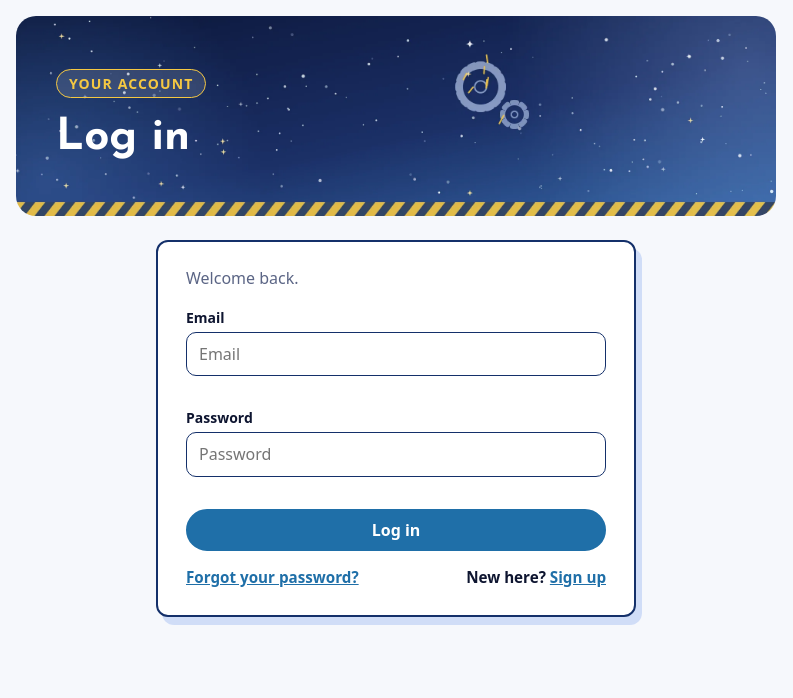
Scenario: log in › shows too many tries as a plain failure on our side, with nothing for the person to fix
The width and height of the screenshot is (793, 698).
Type "gill@example.com" into the field labelled "Email" at (396,354), box left=186, top=332, right=606, bottom=376
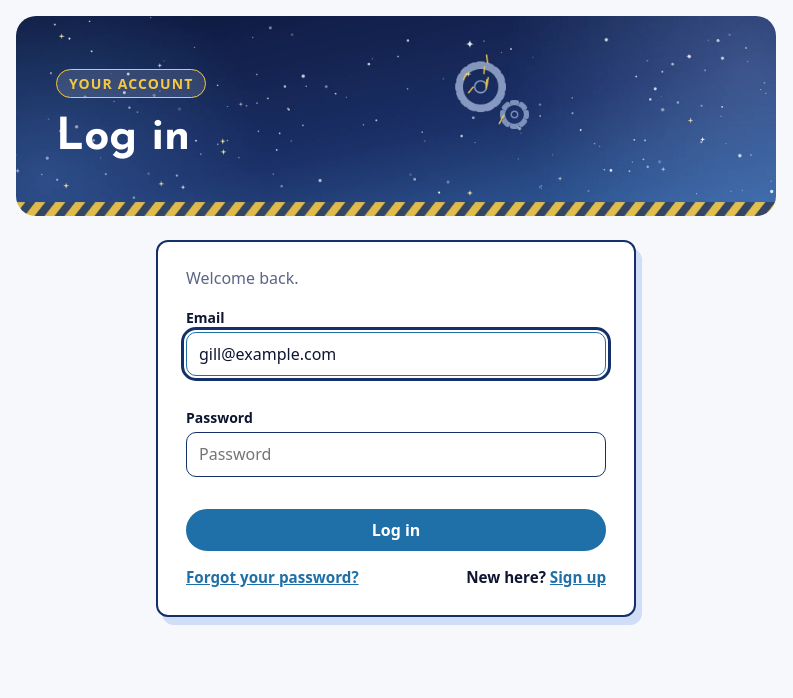
Type "secret123" into the password field labelled "Password" at (396,454), box left=186, top=432, right=606, bottom=477
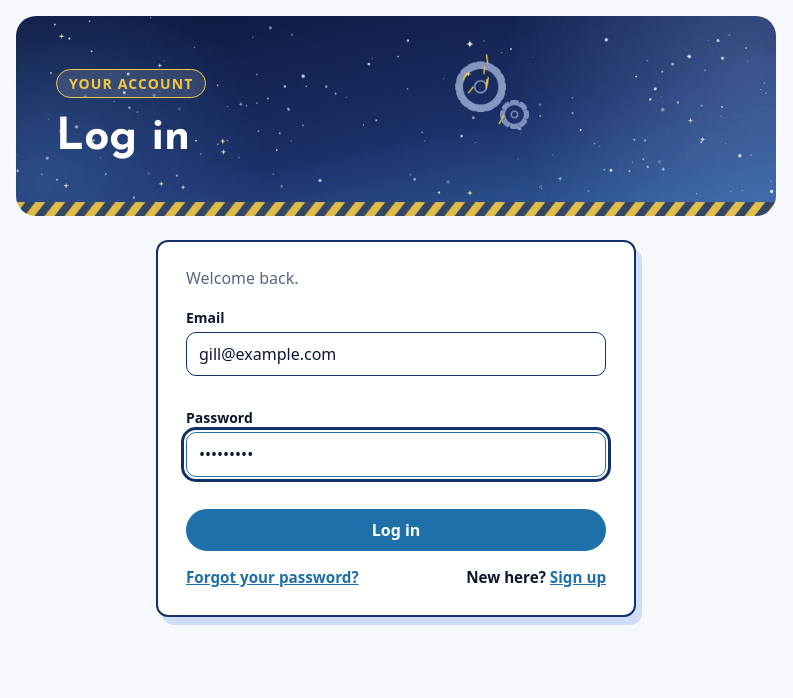
Click the button "Log in" at (396,530), box left=186, top=509, right=606, bottom=551
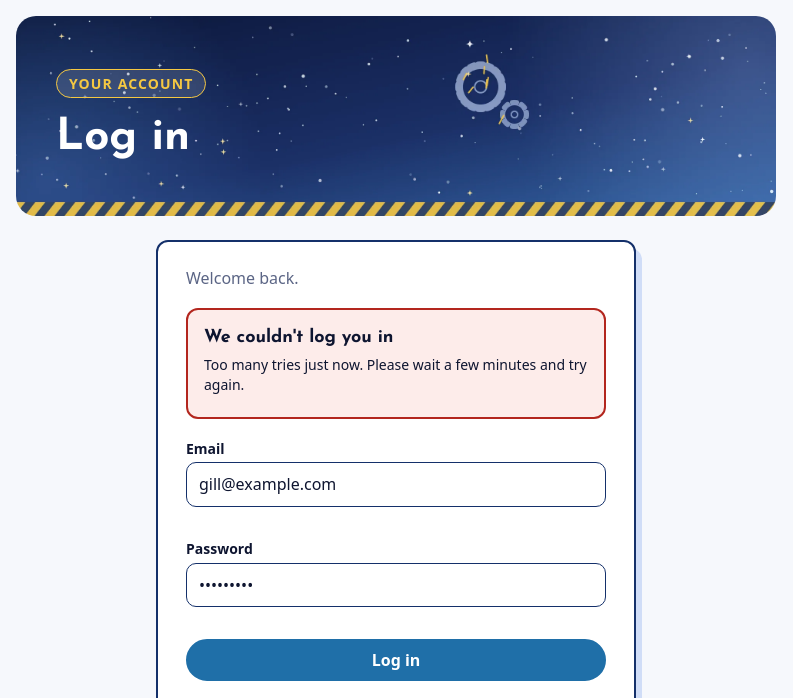
Expected: the message shows "Too many tries just now. Please wait a few minutes and try again.", left=204, top=355, right=587, bottom=394
Expected: the number of messages is 1, left=186, top=308, right=606, bottom=419
